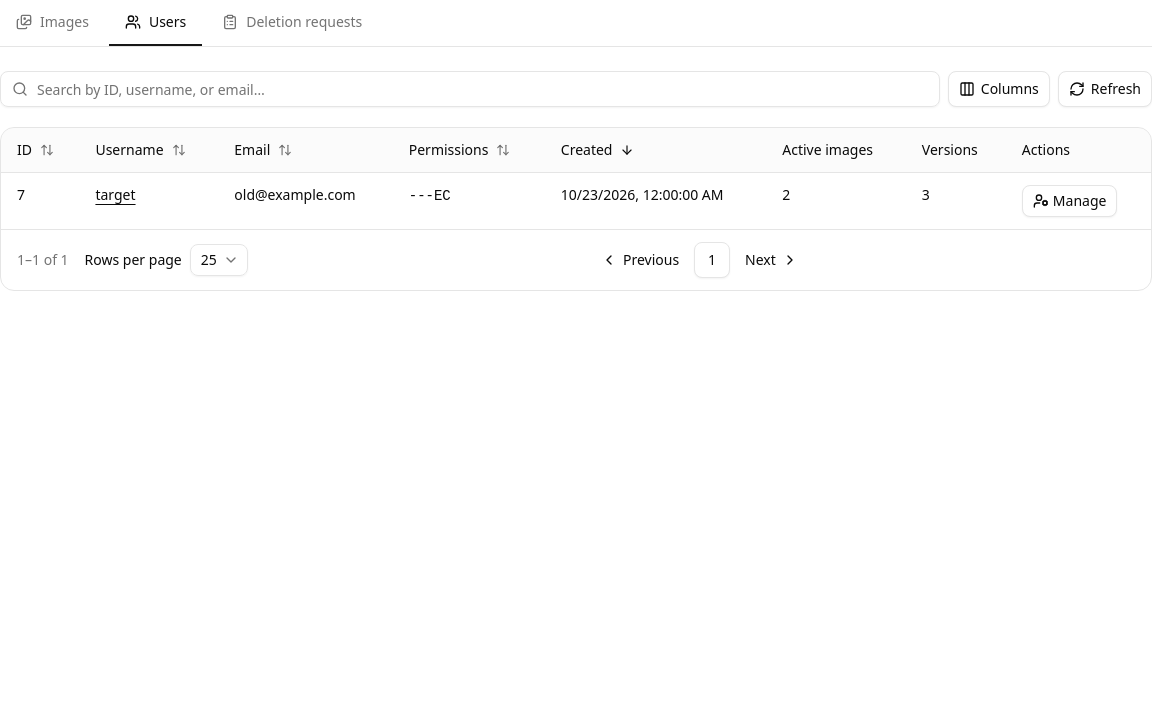
Test case: shows saved user data after revalidation resolves auth first without another refresh
Click the button with aria-label "Manage target": (1070, 201) left=1022, top=185, right=1117, bottom=217
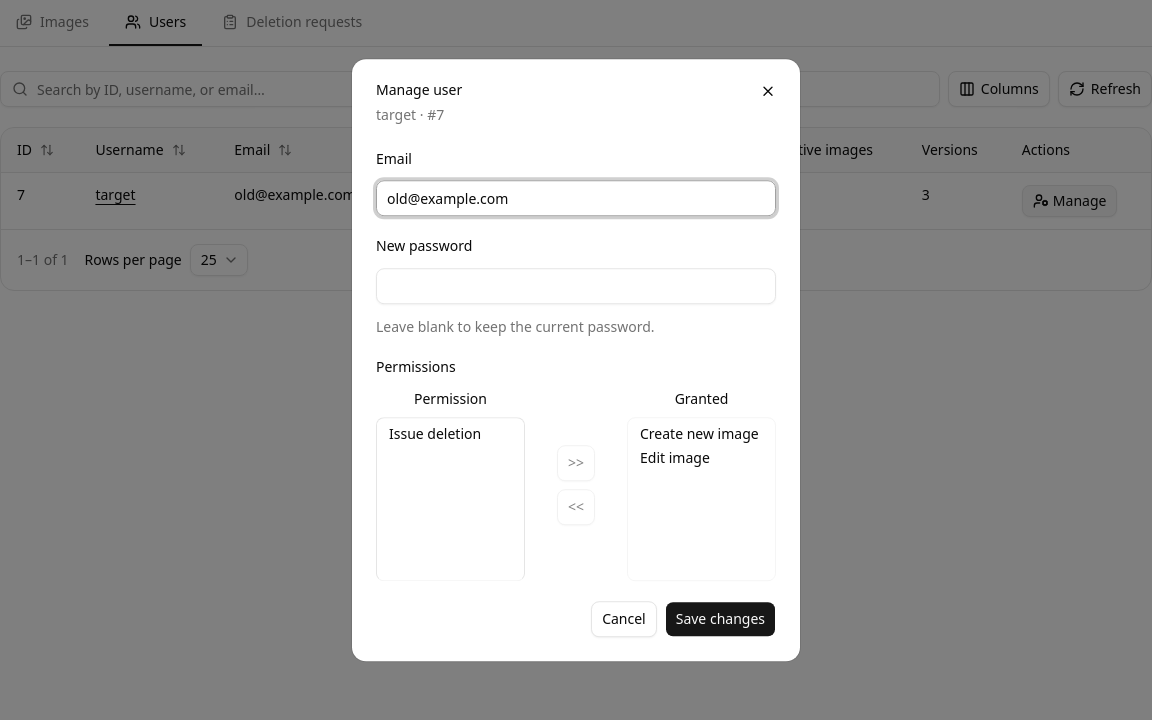
Replace the text in the field labelled "Email" with "updated@example.com": (576, 198) left=376, top=180, right=776, bottom=216
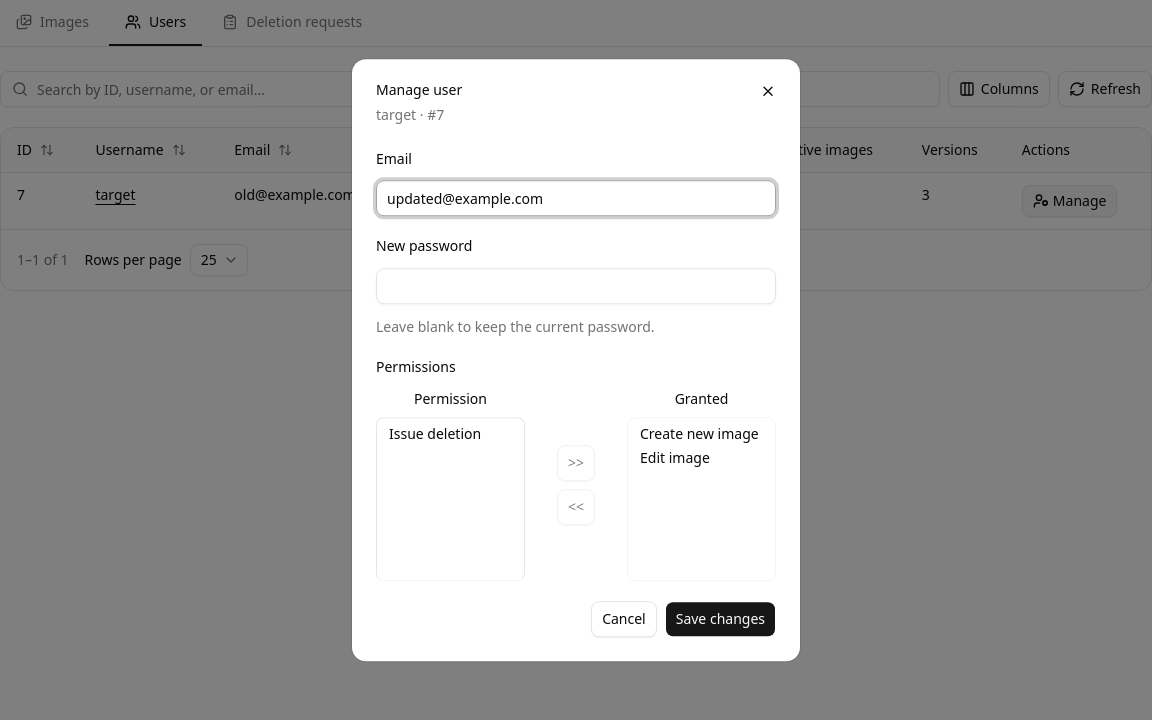
Click the button "Save changes": (720, 619) left=665, top=601, right=776, bottom=637
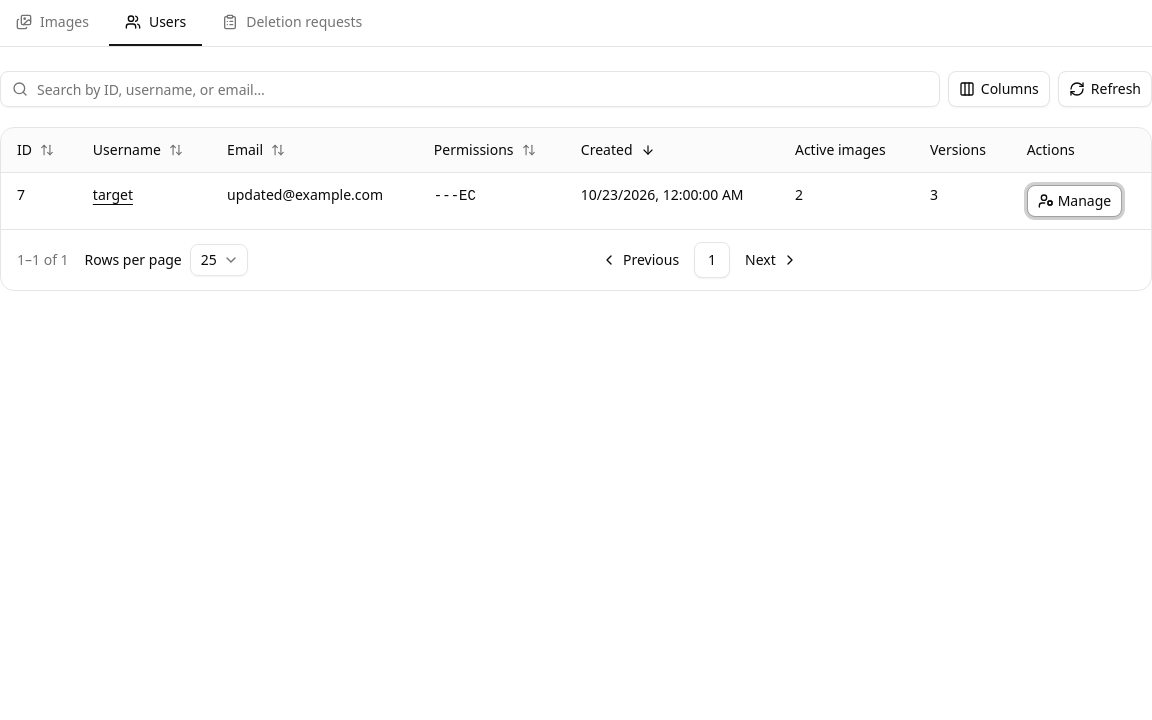
expect the text "updated@example.com" is shown: met, box left=211, top=172, right=418, bottom=229
expect the dialog is gone: met
